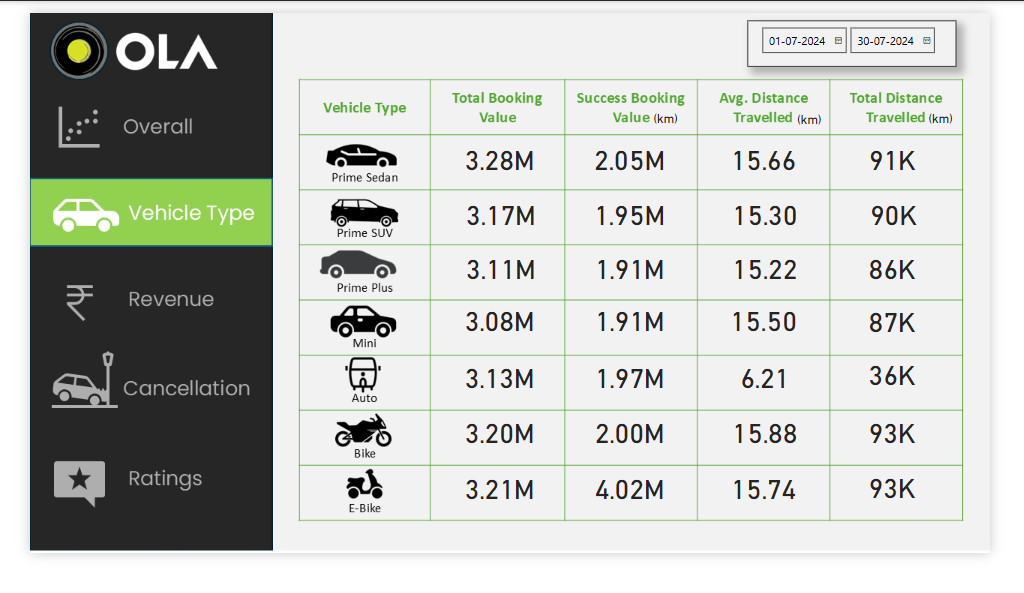

What the dashboard file says about the page in this screenshot:
{"tool":"powerbi","page":{"name":"Page 2","canvas":[1280,720],"ordinal":1},"visuals":[{"type":"actionButton","box":[0,573,325.2,95.7],"z":0},{"type":"actionButton","box":[0,445.4,325.2,95.7],"z":1000},{"type":"actionButton","box":[0,338.7,325.2,95.7],"z":2000},{"type":"actionButton","box":[0,109.2,325.2,95.7],"z":3000},{"type":"card","fields":{"Values":["Sum(July (2).Booking_Value)"]},"box":[558.8,178.8,136.2,52.5],"z":4000},{"type":"card","fields":{"Values":["Sum(July (2).Booking_Value)"]},"box":[558.8,392.5,136.2,52.5],"z":5000},{"type":"card","fields":{"Values":["Sum(July (2).Booking_Value)"]},"box":[560,322.5,136.2,52.5],"z":6000},{"type":"card","fields":{"Values":["Sum(July (2).Booking_Value)"]},"box":[560,251.2,136.2,52.5],"z":7000},{"type":"card","fields":{"Values":["Sum(July (2).Booking_Value)"]},"box":[558.8,467.5,136.2,52.5],"z":8000},{"type":"card","fields":{"Values":["Sum(July (2).Booking_Value)"]},"box":[558.8,541.2,136.2,52.5],"z":9000},{"type":"card","fields":{"Values":["Sum(July (2).Booking_Value)"]},"box":[558.8,616.2,136.2,52.5],"z":10000},{"type":"card","fields":{"Values":["Sum(July (2).Booking_Value)"]},"box":[731.2,178.8,136.2,52.5],"z":11000},{"type":"card","fields":{"Values":["Sum(July (2).Booking_Value)"]},"box":[731.2,541.2,136.2,52.5],"z":12000},{"type":"card","fields":{"Values":["Sum(July (2).Booking_Value)"]},"box":[731.2,467.5,136.2,52.5],"z":13000},{"type":"card","fields":{"Values":["Sum(July (2).Booking_Value)"]},"box":[731.2,392.5,136.2,52.5],"z":14000},{"type":"card","fields":{"Values":["Sum(July (2).Booking_Value)"]},"box":[731.2,322.5,136.2,52.5],"z":15000},{"type":"card","fields":{"Values":["Sum(July (2).Booking_Value)"]},"box":[731.2,251.2,136.2,52.5],"z":16000},{"type":"card","fields":{"Values":["Sum(July (2).Booking_Value)"]},"box":[731.2,616.2,136.2,52.5],"z":17000},{"type":"card","fields":{"Values":["Avg(July (2).Ride_Distance)"]},"box":[910,178.8,136.2,52.5],"z":18000},{"type":"card","fields":{"Values":["Avg(July (2).Ride_Distance)"]},"box":[911.2,251.2,136.2,52.5],"z":19000},{"type":"card","fields":{"Values":["Avg(July (2).Ride_Distance)"]},"box":[911.2,322.5,136.2,52.5],"z":20000},{"type":"card","fields":{"Values":["Avg(July (2).Ride_Distance)"]},"box":[910,392.5,136.2,52.5],"z":21000},{"type":"card","fields":{"Values":["Avg(July (2).Ride_Distance)"]},"box":[911.2,467.5,136.2,52.5],"z":22000},{"type":"card","fields":{"Values":["Avg(July (2).Ride_Distance)"]},"box":[911.2,541.2,136.2,52.5],"z":23000},{"type":"card","fields":{"Values":["Avg(July (2).Ride_Distance)"]},"box":[910,616.2,136.2,52.5],"z":24000},{"type":"card","fields":{"Values":["Sum(July (2).Ride_Distance)"]},"box":[1081.2,178.8,136.2,52.5],"z":25000},{"type":"card","fields":{"Values":["Sum(July (2).Ride_Distance)"]},"box":[1082.5,251.2,136.2,52.5],"z":26000},{"type":"card","fields":{"Values":["Sum(July (2).Ride_Distance)"]},"box":[1081.4,322.9,135.7,52.9],"z":27000},{"type":"card","fields":{"Values":["Sum(July (2).Ride_Distance)"]},"box":[1081.4,392.9,135.7,52.9],"z":28000},{"type":"card","fields":{"Values":["Sum(July (2).Ride_Distance)"]},"box":[1081.4,465.7,135.7,52.9],"z":29000},{"type":"card","fields":{"Values":["Sum(July (2).Ride_Distance)"]},"box":[1081.4,541.4,135.7,52.9],"z":30000},{"type":"card","fields":{"Values":["Sum(July (2).Ride_Distance)"]},"box":[1081.4,615.7,135.7,52.9],"z":31000},{"type":"textbox","title":"(km)","box":[826.7,130,51.1,25.6],"z":32000},{"type":"textbox","title":"(km)","box":[1018,131,43,26],"z":33000},{"type":"textbox","title":"(km)","box":[1194,130,42,26],"z":34000},{"type":"slicer","title":"Date","fields":{"Values":["July (2).Date"]},"box":[957.1,10,278.6,61.4],"z":35000}]}

Visuals, with their boxes in screenshot pixels (x1, y1, x2, y2), scaled from the page's 1280x720 canvas onto the 1024x593 screenshot:
actionButton: l=0, t=472, r=260, b=551
actionButton: l=0, t=367, r=260, b=446
actionButton: l=0, t=279, r=260, b=358
actionButton: l=0, t=90, r=260, b=169
card - Sum(July (2).Booking_Value): l=447, t=147, r=556, b=191
card - Sum(July (2).Booking_Value): l=447, t=323, r=556, b=367
card - Sum(July (2).Booking_Value): l=448, t=266, r=557, b=309
card - Sum(July (2).Booking_Value): l=448, t=207, r=557, b=250
card - Sum(July (2).Booking_Value): l=447, t=385, r=556, b=428
card - Sum(July (2).Booking_Value): l=447, t=446, r=556, b=489
card - Sum(July (2).Booking_Value): l=447, t=508, r=556, b=551
card - Sum(July (2).Booking_Value): l=585, t=147, r=694, b=191
card - Sum(July (2).Booking_Value): l=585, t=446, r=694, b=489
card - Sum(July (2).Booking_Value): l=585, t=385, r=694, b=428
card - Sum(July (2).Booking_Value): l=585, t=323, r=694, b=367
card - Sum(July (2).Booking_Value): l=585, t=266, r=694, b=309
card - Sum(July (2).Booking_Value): l=585, t=207, r=694, b=250
card - Sum(July (2).Booking_Value): l=585, t=508, r=694, b=551
card - Avg(July (2).Ride_Distance): l=728, t=147, r=837, b=191
card - Avg(July (2).Ride_Distance): l=729, t=207, r=838, b=250
card - Avg(July (2).Ride_Distance): l=729, t=266, r=838, b=309
card - Avg(July (2).Ride_Distance): l=728, t=323, r=837, b=367
card - Avg(July (2).Ride_Distance): l=729, t=385, r=838, b=428
card - Avg(July (2).Ride_Distance): l=729, t=446, r=838, b=489
card - Avg(July (2).Ride_Distance): l=728, t=508, r=837, b=551
card - Sum(July (2).Ride_Distance): l=865, t=147, r=974, b=191
card - Sum(July (2).Ride_Distance): l=866, t=207, r=975, b=250
card - Sum(July (2).Ride_Distance): l=865, t=266, r=974, b=310
card - Sum(July (2).Ride_Distance): l=865, t=324, r=974, b=367
card - Sum(July (2).Ride_Distance): l=865, t=384, r=974, b=427
card - Sum(July (2).Ride_Distance): l=865, t=446, r=974, b=489
card - Sum(July (2).Ride_Distance): l=865, t=507, r=974, b=551
"(km)" textbox: l=661, t=107, r=702, b=128
"(km)" textbox: l=814, t=108, r=849, b=129
"(km)" textbox: l=955, t=107, r=989, b=128
"Date" slicer: l=766, t=8, r=989, b=59
